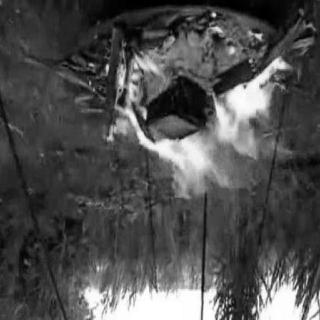Fire: (75, 16, 307, 246)
